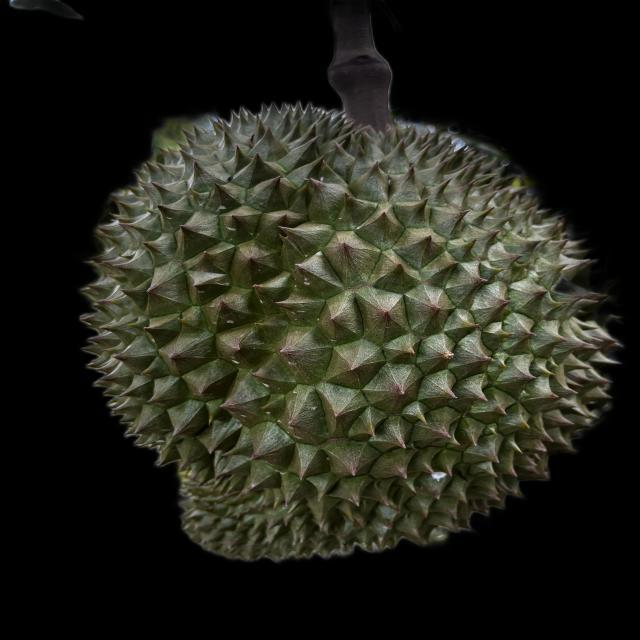immature: (77, 99, 629, 561)
